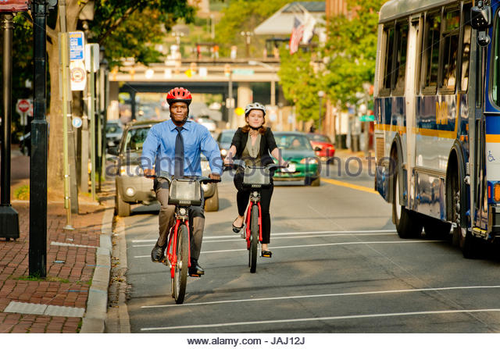bikerider: (136, 81, 221, 302), (211, 98, 287, 268)
